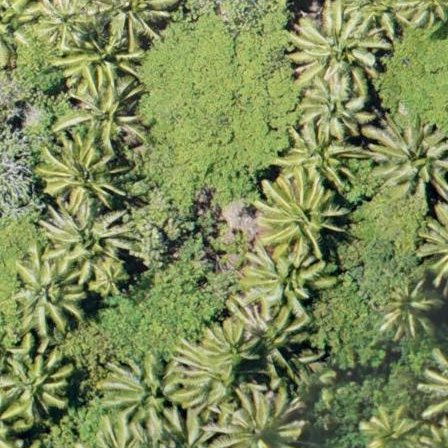palm_tree: (1, 240, 87, 342), (290, 1, 377, 90), (257, 173, 339, 260), (36, 128, 118, 214), (60, 65, 145, 145), (371, 115, 448, 202), (1, 337, 75, 427), (245, 249, 331, 319), (102, 357, 182, 429), (41, 209, 124, 278), (206, 383, 294, 448), (375, 277, 441, 348), (85, 1, 176, 52), (197, 322, 260, 380), (359, 401, 416, 448)
